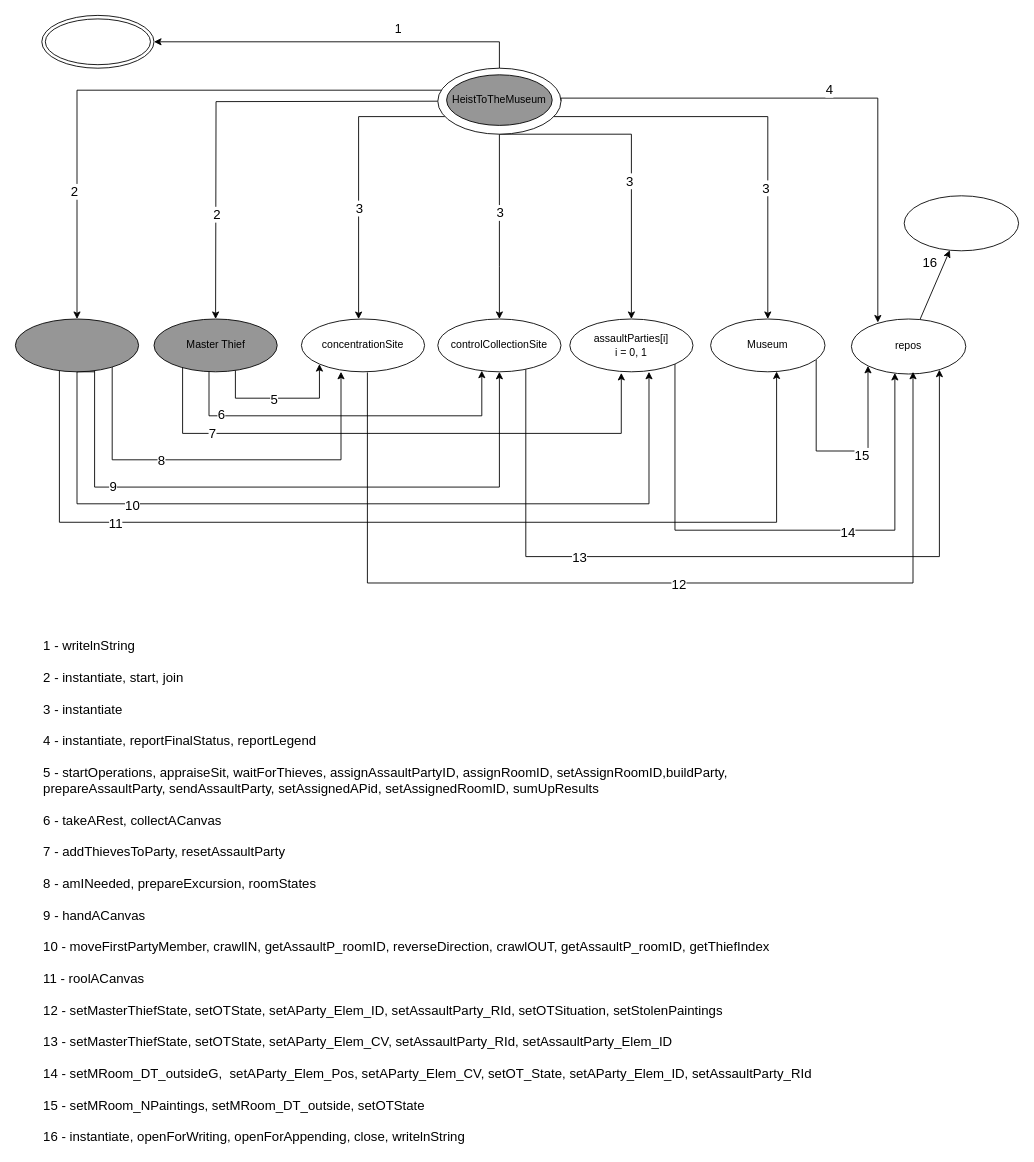
The diagram is 1034 pixels wide and 1162 high, and some of its shapes have lost their labels. Here are the shapes that lost their labels. From the top down, the centre of each, then its label:
At (x=97, y=41): "GenericIO".
At (x=961, y=223): "log".
At (x=77, y=345): "Ordinary Thieves[i] i = 0, 1, ..., 5".
